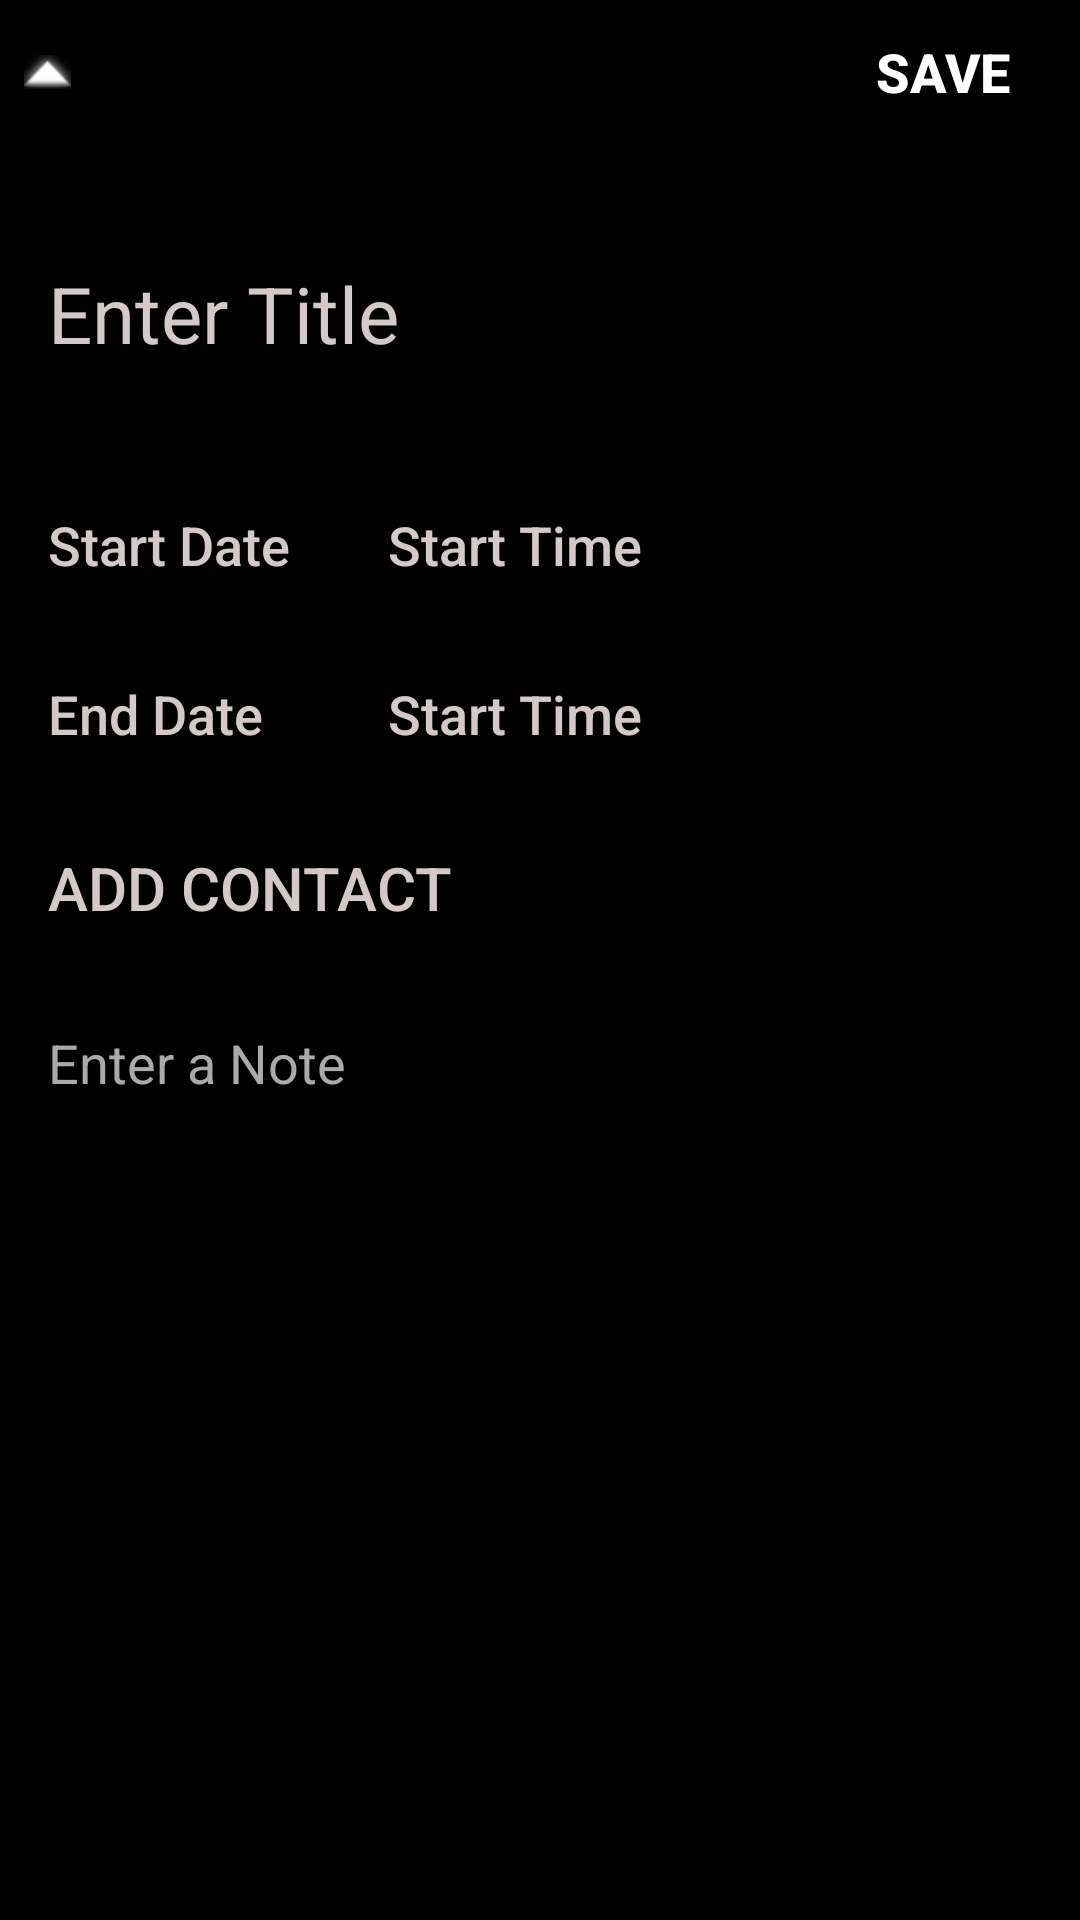

Locate icon controls on the screen. Image size 1080px×1920px, boxes as (x1, y1, x2, y2).
arrow up float: (24, 56, 71, 88)
